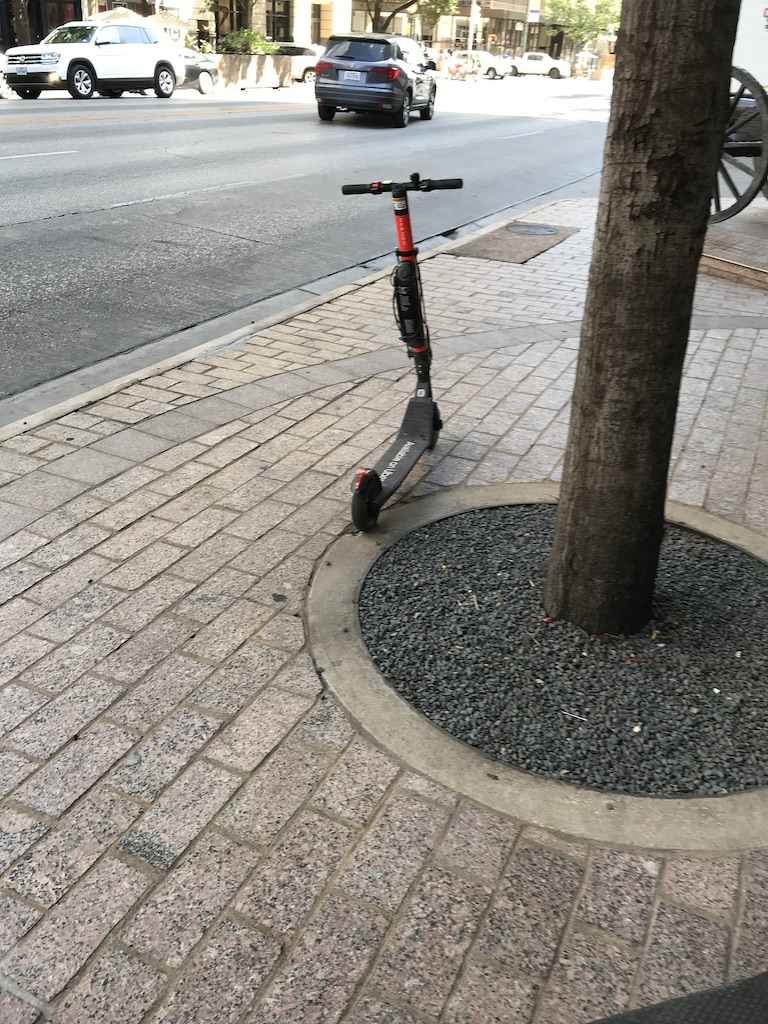scooter: (339, 172, 465, 533)
